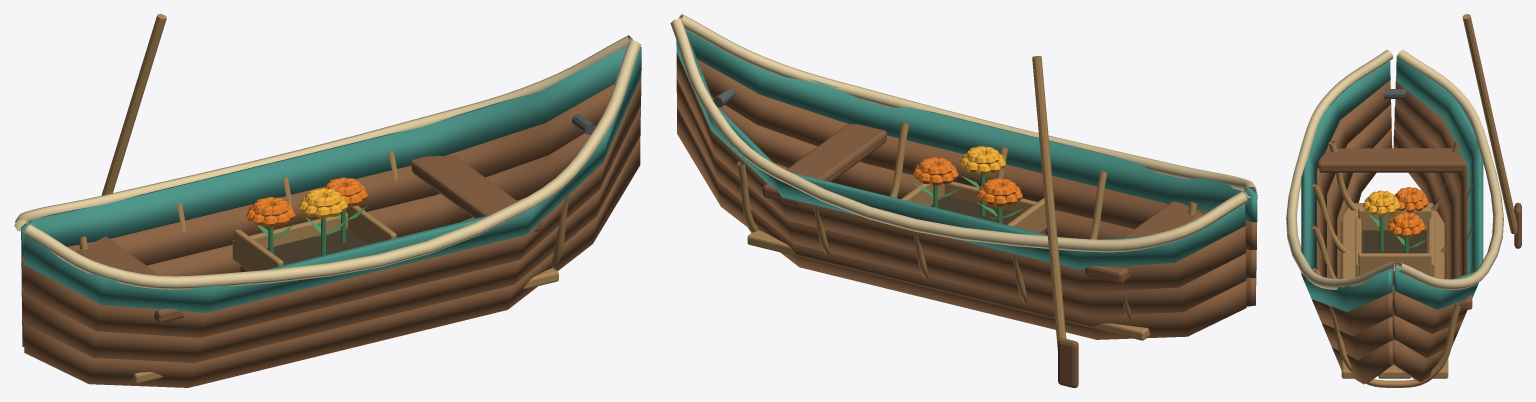
File: canal-garden-boat.glb
3 views of the same model, side by side, from view 1: azimuth 30°, elevation 25°; view 2: azimuth 150°, elevation 25°; view 3: azimuth 270°, elevation 25° (orthographic). The views are drawn at different scales.
Parts seen in each view (by area): view 1: GardenBoatMesh, FlowerTrayMesh; view 2: GardenBoatMesh, FlowerTrayMesh; view 3: GardenBoatMesh, FlowerTrayMesh.
Boxes of the visible parts, box(x1,y1,x2,y2) form: GardenBoatMesh: box(14, 14, 641, 387); FlowerTrayMesh: box(232, 177, 396, 272); GardenBoatMesh: box(670, 14, 1257, 387); FlowerTrayMesh: box(901, 146, 1046, 234); GardenBoatMesh: box(1286, 14, 1521, 387); FlowerTrayMesh: box(1355, 187, 1434, 285).
Bounding box in the file's own units: 3.5 × 1.7 × 1.42.
